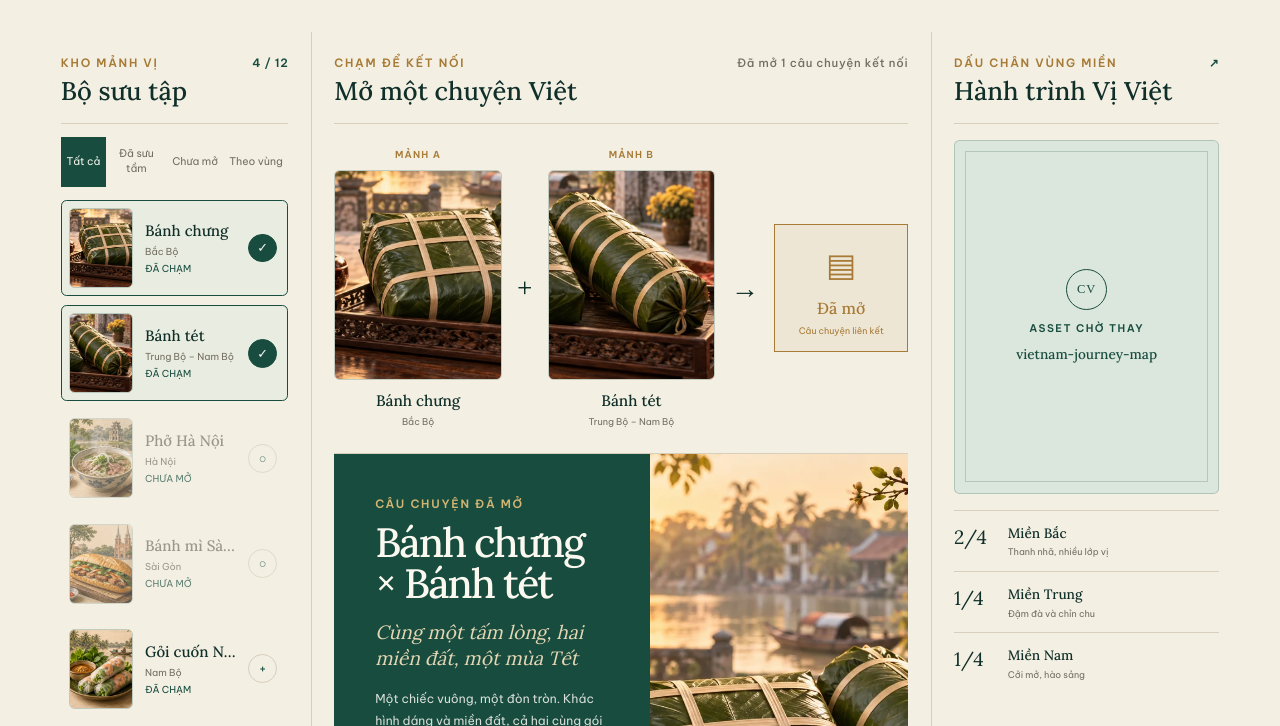
Test: CollectionDashboard › returns to the locked state when one selected flavor is removed
Click the button with aria-label "bỏ chọn bánh tét".
click(175, 353)  # box [61, 305, 288, 401]
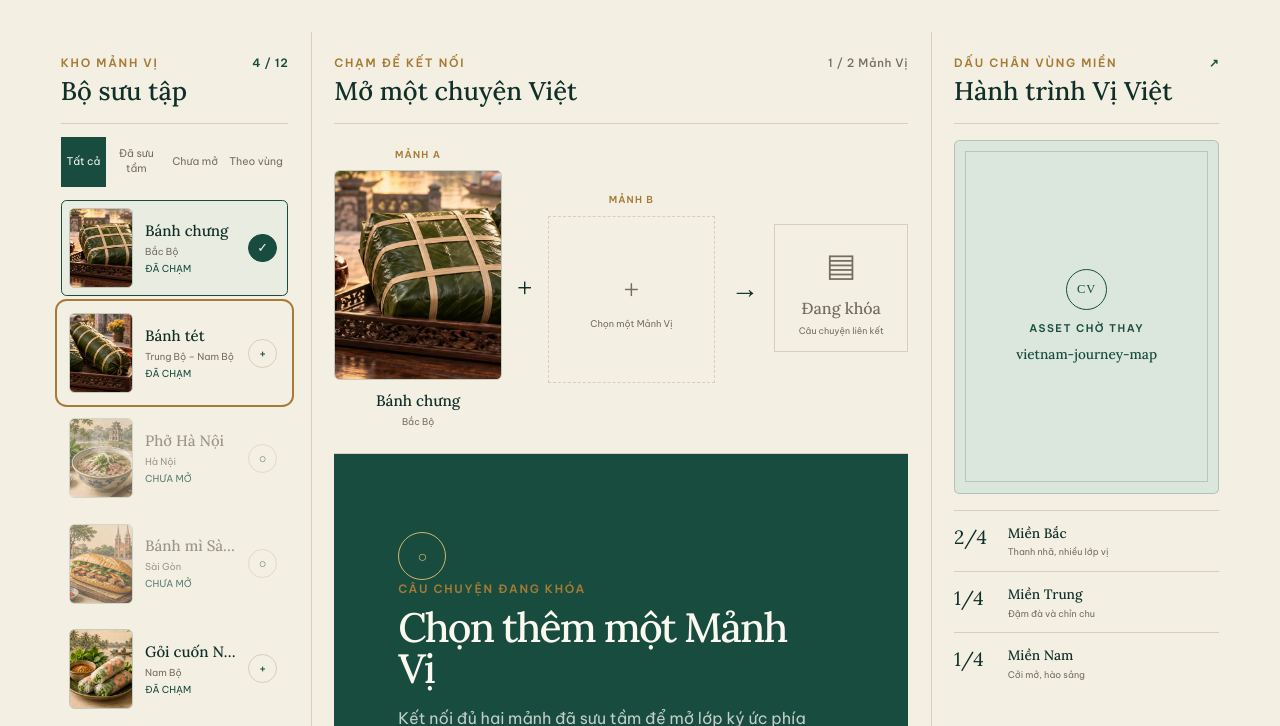
Expected: the heading "Chọn thêm một Mảnh Vị" is shown, [398, 607, 830, 689]
Expected: the text "Cùng một tấm lòng, hai miền đất" is gone
